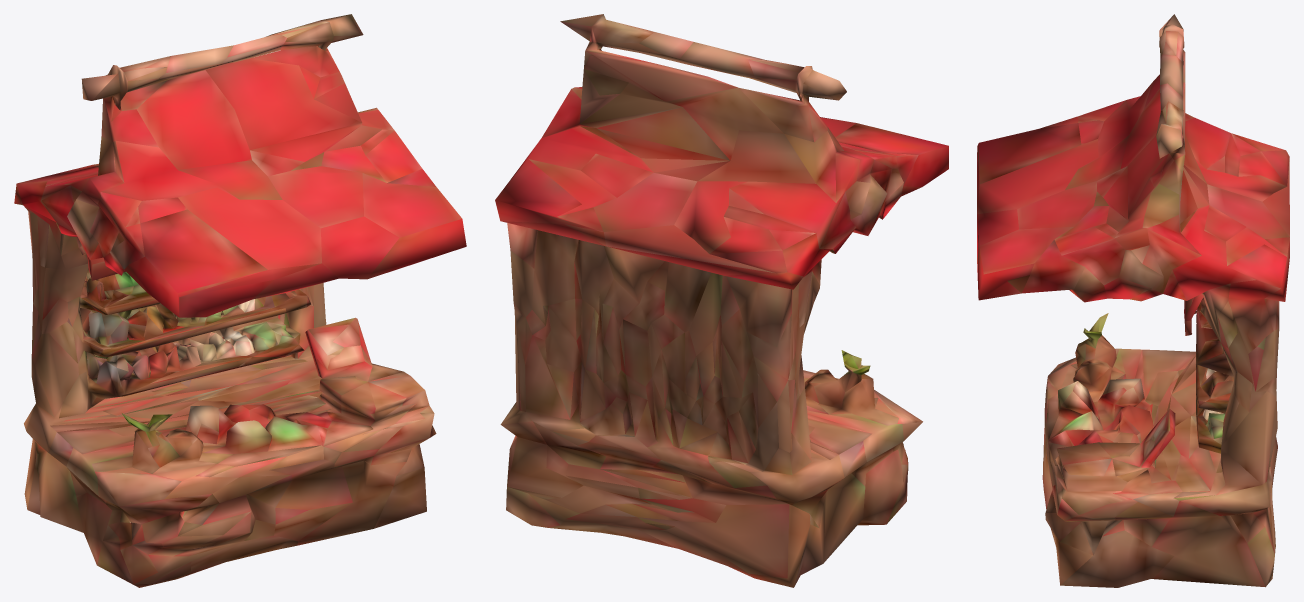
File: market_stall.glb
3 renders of one model, left to right at view 1: azimuth 30°, elevation 25°; view 2: azimuth 150°, elevation 25°; view 3: azimuth 270°, elevation 25°, orthographic. The views are drawn at different scales.
Bounding box in the file's own units: 1.37 × 1.91 × 1.2.
1 material, 1 textured.
